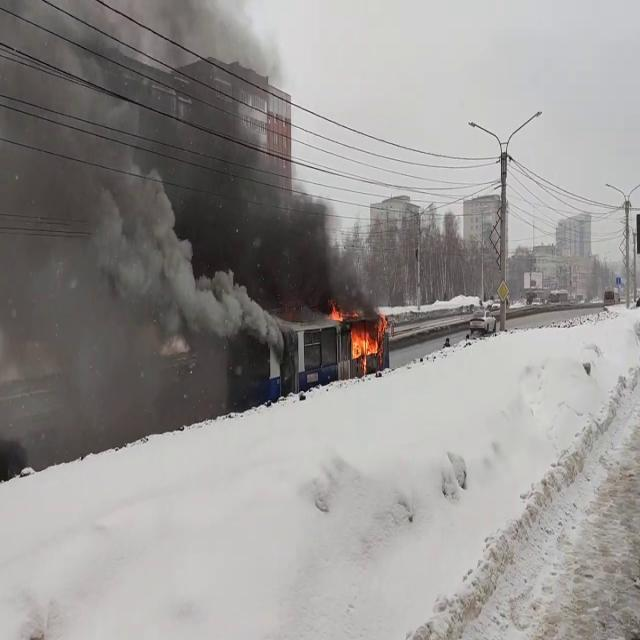Fire: (348, 318, 384, 368)
Smoke: (0, 0, 380, 310)
